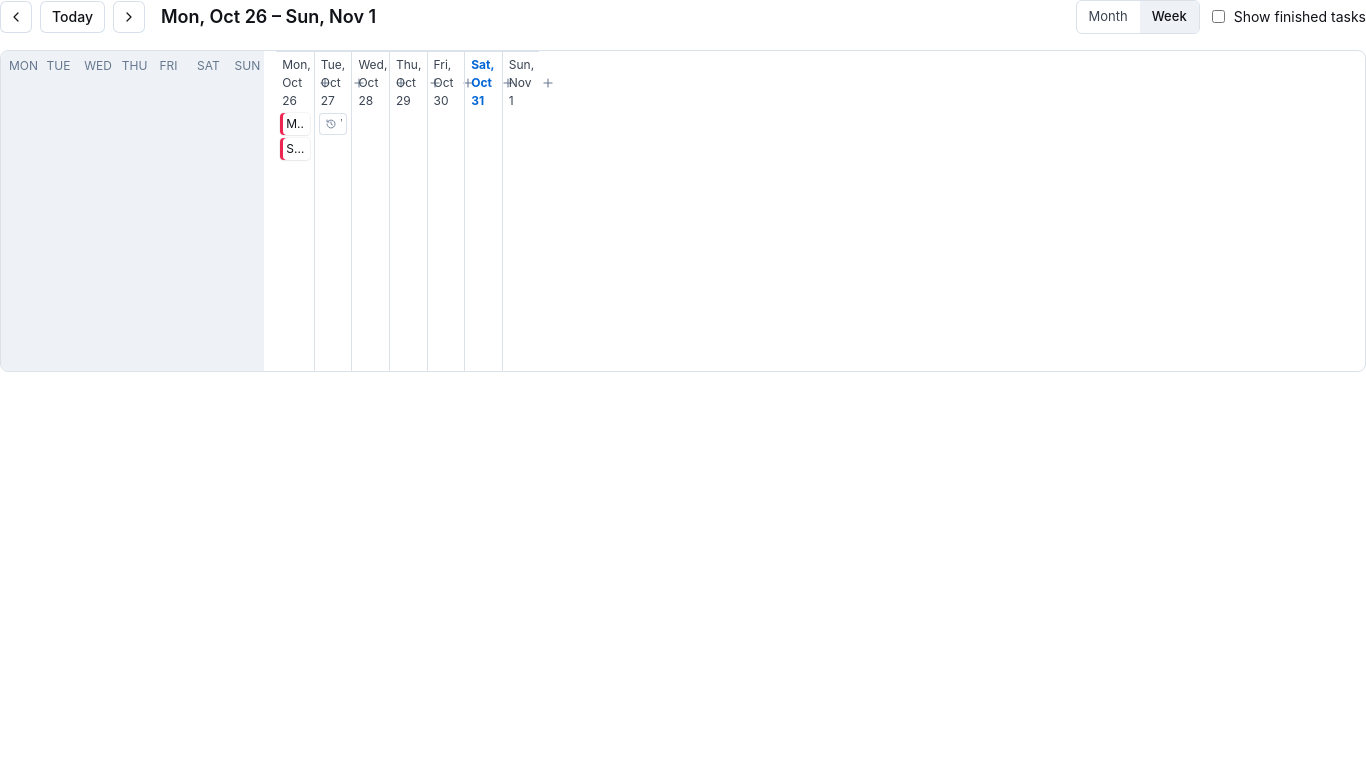
Test: calendar › opens a pre-dated new-task form when clicking an empty day
The image size is (1366, 768).
Check: the text "Mine to move" is shown, box left=286, top=114, right=304, bottom=132
Click the cell "Wed, Oct 28" at (370, 210), box left=351, top=50, right=389, bottom=370
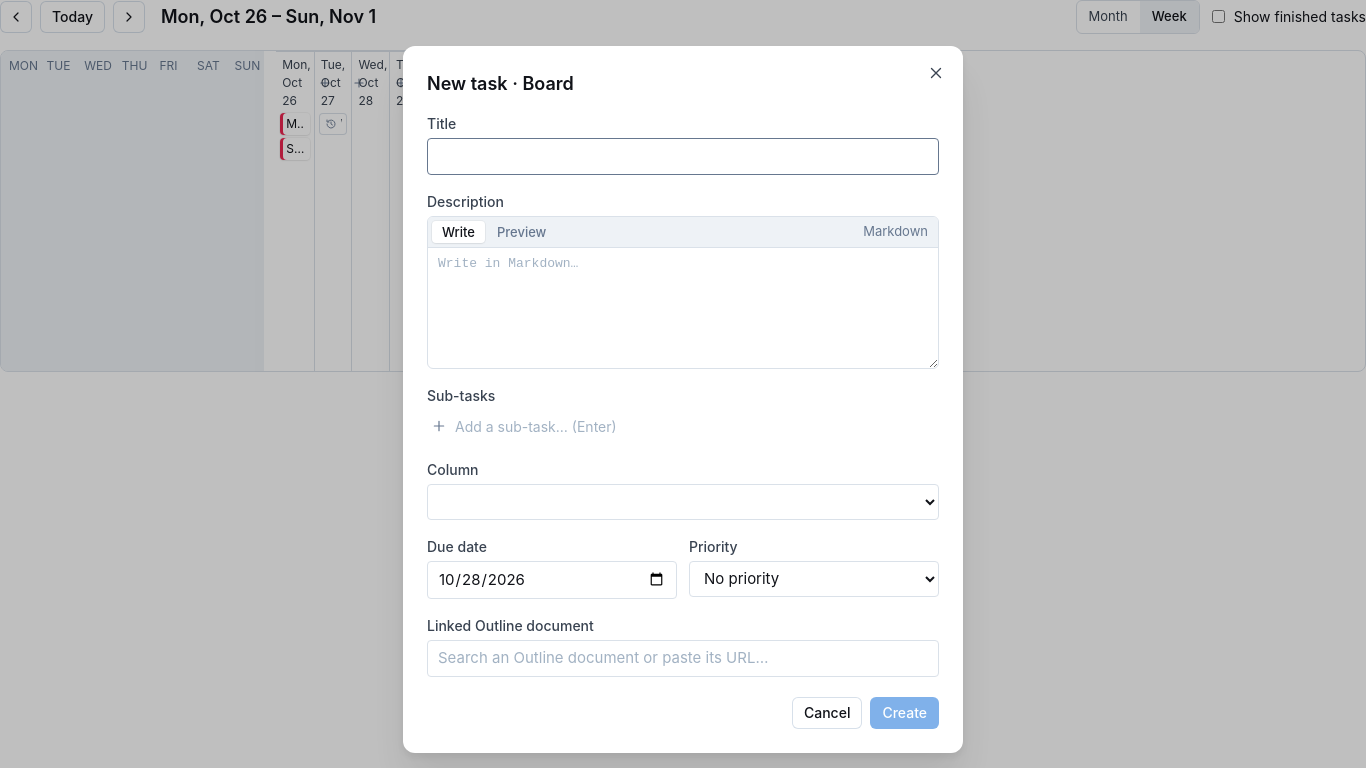
Check: the text "New task · Board" is shown, box left=427, top=73, right=574, bottom=94
